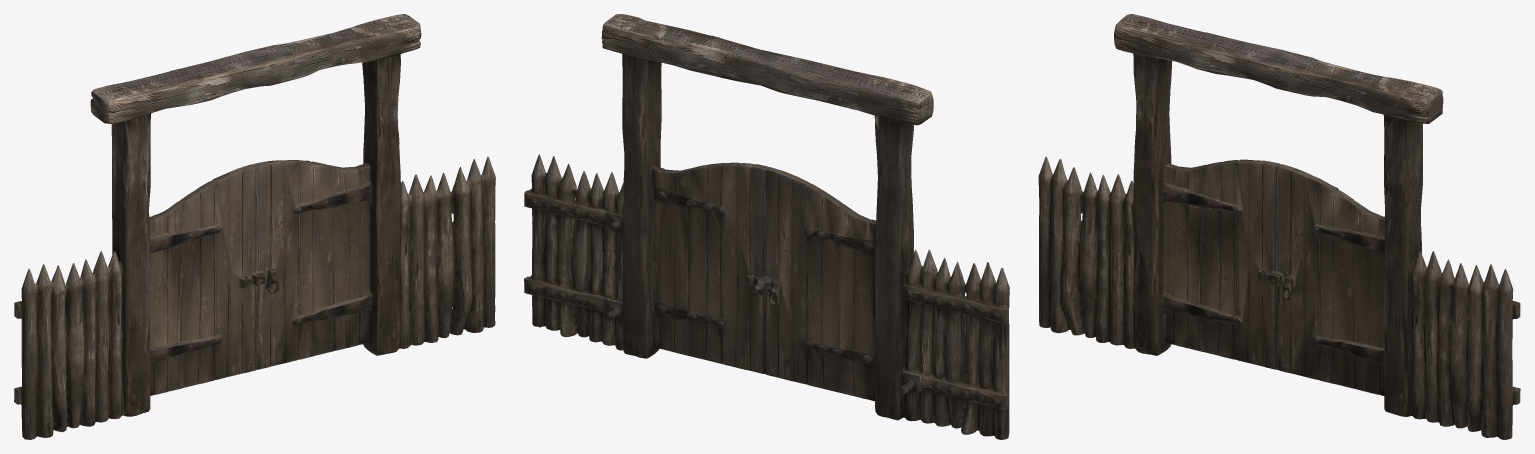
Rendered from town-gate.glb.
3 renders of one model, left to right at view 1: azimuth 30°, elevation 25°; view 2: azimuth 150°, elevation 25°; view 3: azimuth 330°, elevation 25°, orthographic.
Parts seen in each view (by area): view 1: Mesh_0; view 2: Mesh_0; view 3: Mesh_0.
Part boxes in pixels (bbox=[...]): Mesh_0: bbox=[14, 14, 495, 439]; Mesh_0: bbox=[524, 14, 1009, 439]; Mesh_0: bbox=[1038, 14, 1520, 439].
Size of the model in its own units: 1.9 by 1.23 by 0.1661.
Materials: 1 (1 with a texture image).
